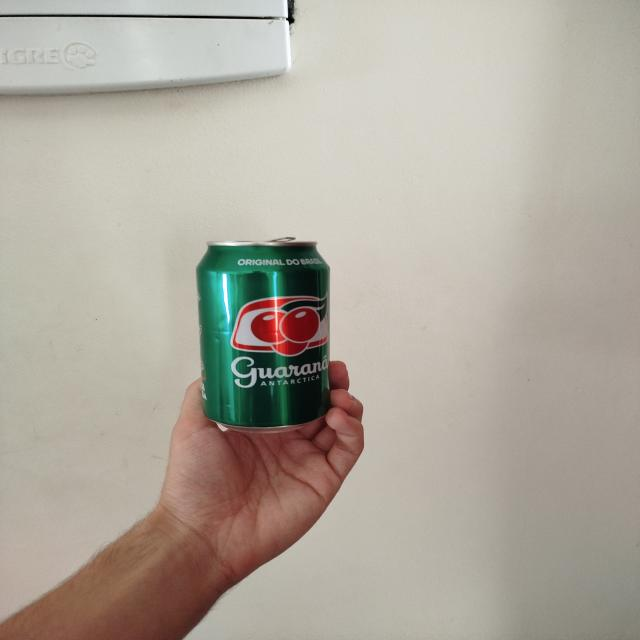Guarana: (198, 240, 335, 432)
